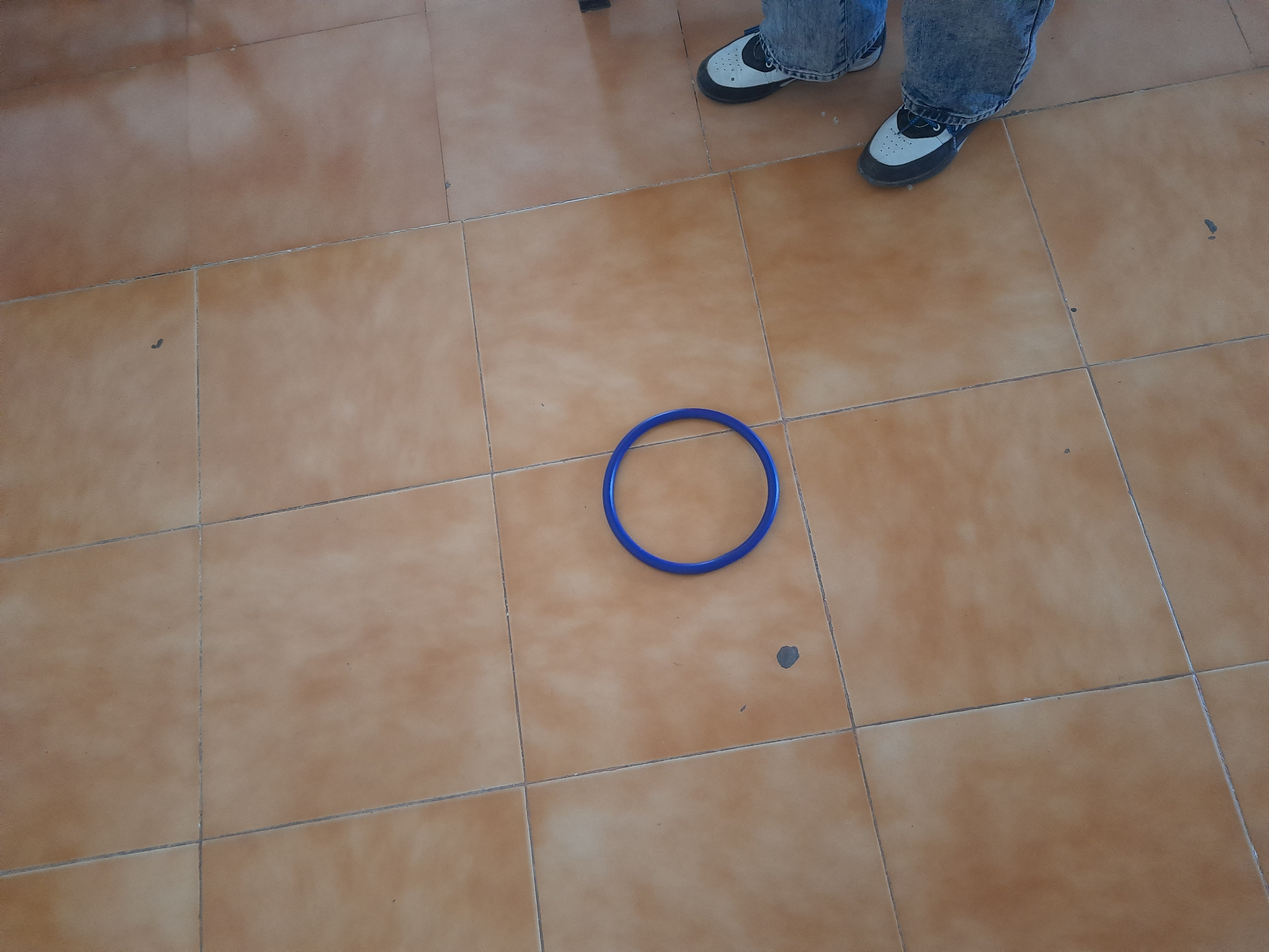Blue ring: (603, 410, 778, 573)
